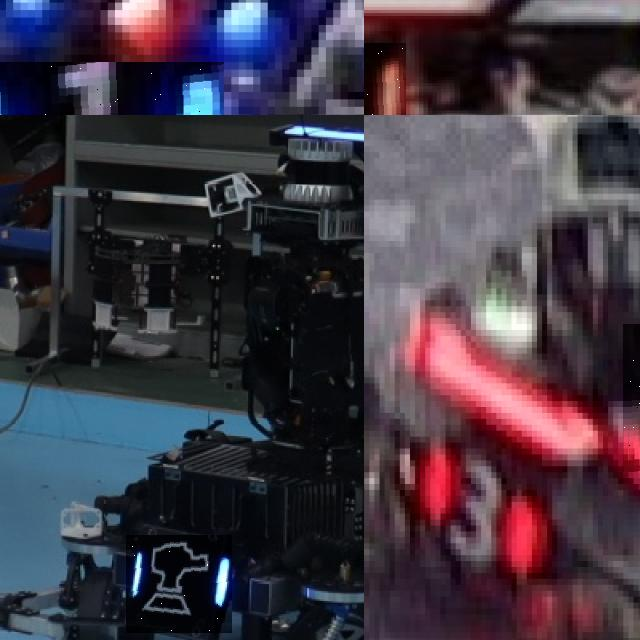B1: (0, 62, 224, 115)
Bs: (126, 536, 232, 634)
R3: (410, 436, 552, 578)
